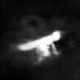plane: (15, 29, 68, 63)
